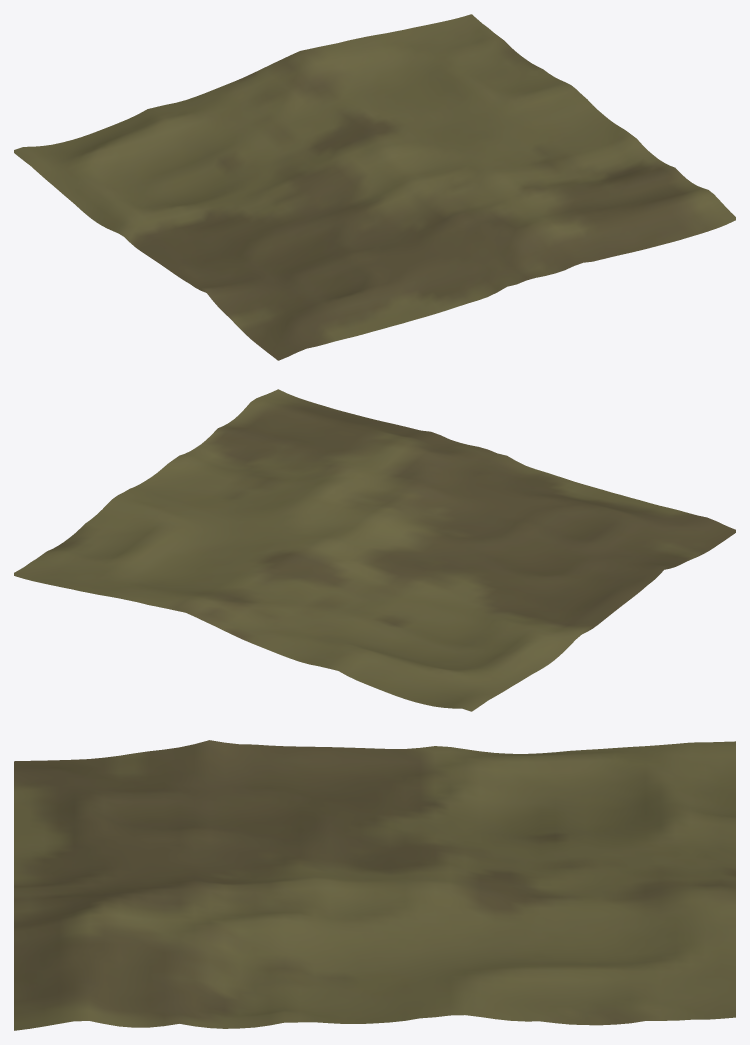
The model's file is land_m_15_01.glb.
3 renders of one model, top to bottom at view 1: azimuth 30°, elevation 25°; view 2: azimuth 150°, elevation 25°; view 3: azimuth 270°, elevation 25°, orthographic. The views are drawn at different scales.
Visible parts, largest first — view 1: land_m_15_01; view 2: land_m_15_01; view 3: land_m_15_01.
Boxes of the visible parts, left/top/right/bottom form: land_m_15_01: left=14, top=14, right=735, bottom=360; land_m_15_01: left=14, top=389, right=735, bottom=711; land_m_15_01: left=14, top=740, right=735, bottom=1030.
Bounding box in the file's own units: 960 × 94.23 × 960.
